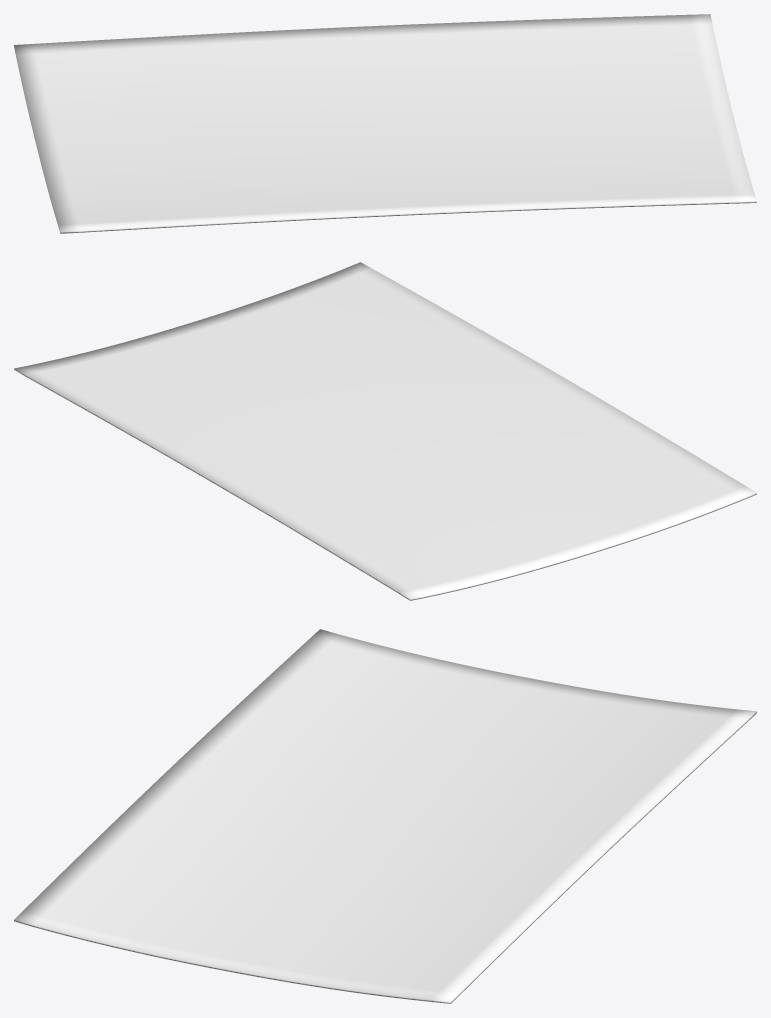
Rendered from ticket.glb.
3 renders of one model, top to bottom at view 1: azimuth 30°, elevation 25°; view 2: azimuth 150°, elevation 25°; view 3: azimuth 270°, elevation 25°, orthographic. The views are drawn at different scales.
Visible parts, largest first — view 1: ticket; view 2: ticket; view 3: ticket.
Part boxes in pixels (x1,y1,x2,y2): ticket: [14, 14, 756, 233]; ticket: [14, 262, 756, 600]; ticket: [14, 629, 756, 1003].
Size of the model in its own units: 0.0996 by 0.00185 by 0.0839.
Materials: 1 (1 with a texture image).
